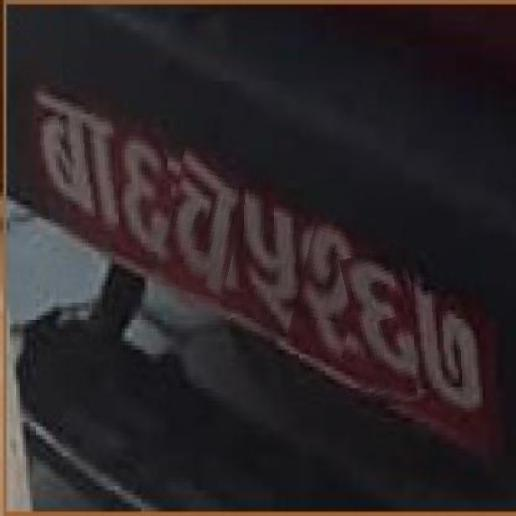2: (291, 219, 366, 361)
5: (232, 187, 304, 338)
6: (347, 249, 428, 408), (119, 136, 175, 273)
7: (413, 281, 484, 419)
ba: (35, 85, 121, 232)
cha: (160, 151, 248, 297)
